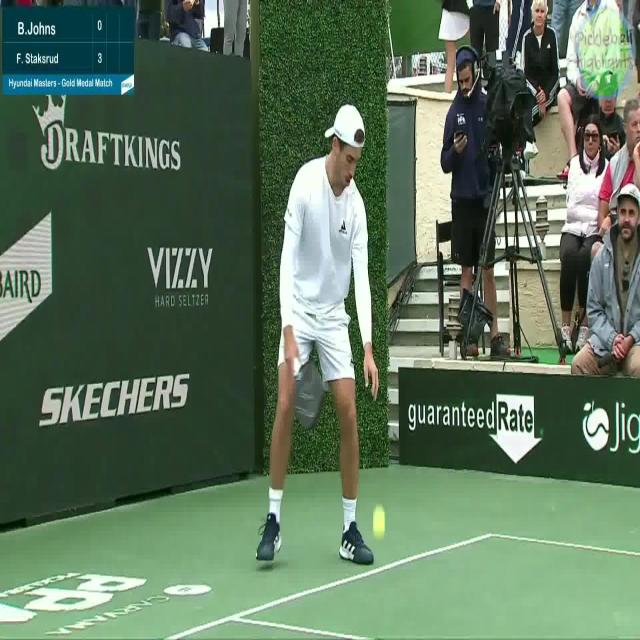ball: (371, 502, 385, 540)
